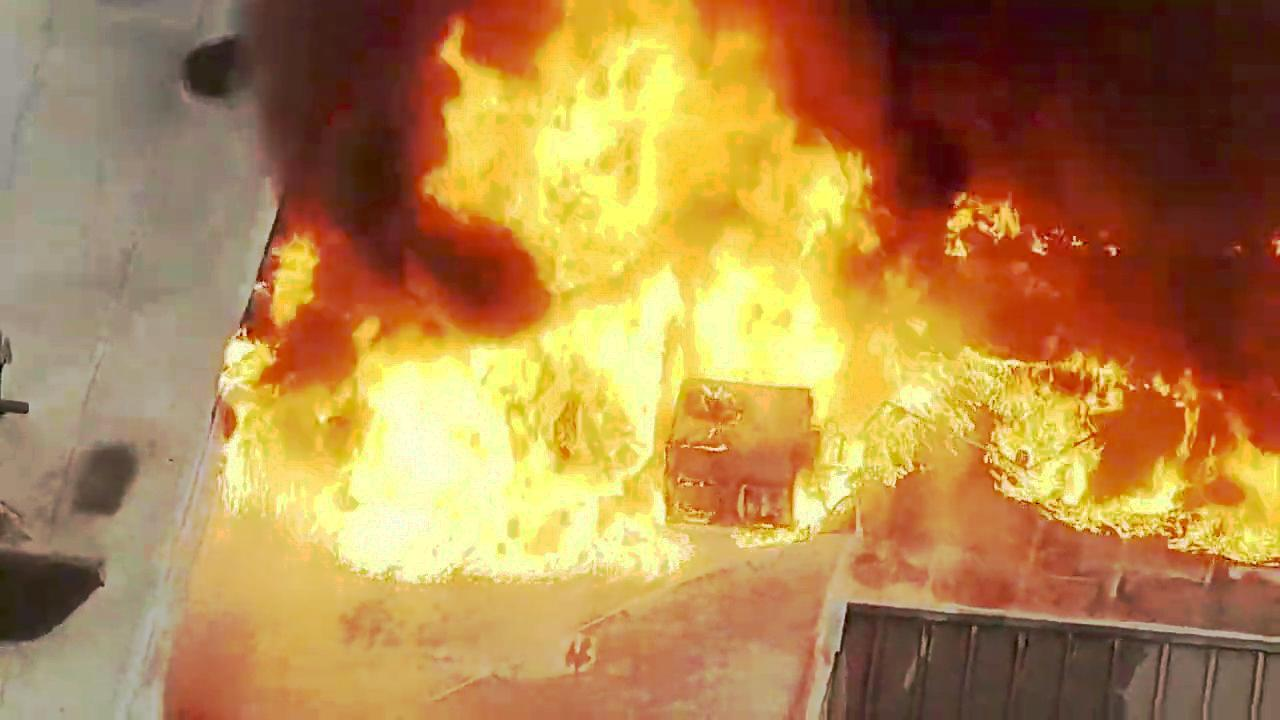fire: (419, 24, 851, 547), (904, 340, 1115, 519)
